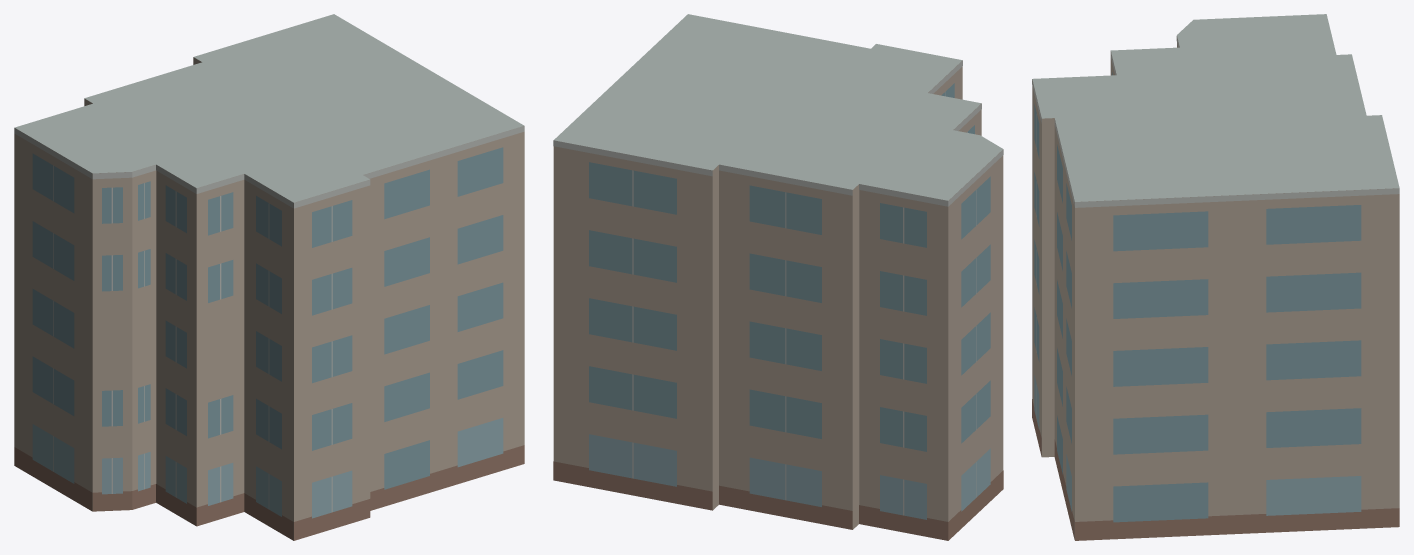
Rendered from survey-upis-32681531.glb.
3 renders of one model, left to right at view 1: azimuth 30°, elevation 25°; view 2: azimuth 150°, elevation 25°; view 3: azimuth 270°, elevation 25°, orthographic.
Visible parts, largest first — view 1: survey-upis-32681531.tmp; view 2: survey-upis-32681531.tmp; view 3: survey-upis-32681531.tmp.
Boxes of the visible parts, x1,y1,x2,y2 form: survey-upis-32681531.tmp: [14, 14, 524, 540]; survey-upis-32681531.tmp: [553, 14, 1003, 540]; survey-upis-32681531.tmp: [1032, 14, 1399, 540].
Bounding box in the file's own units: 16.67 × 14 × 13.77.
